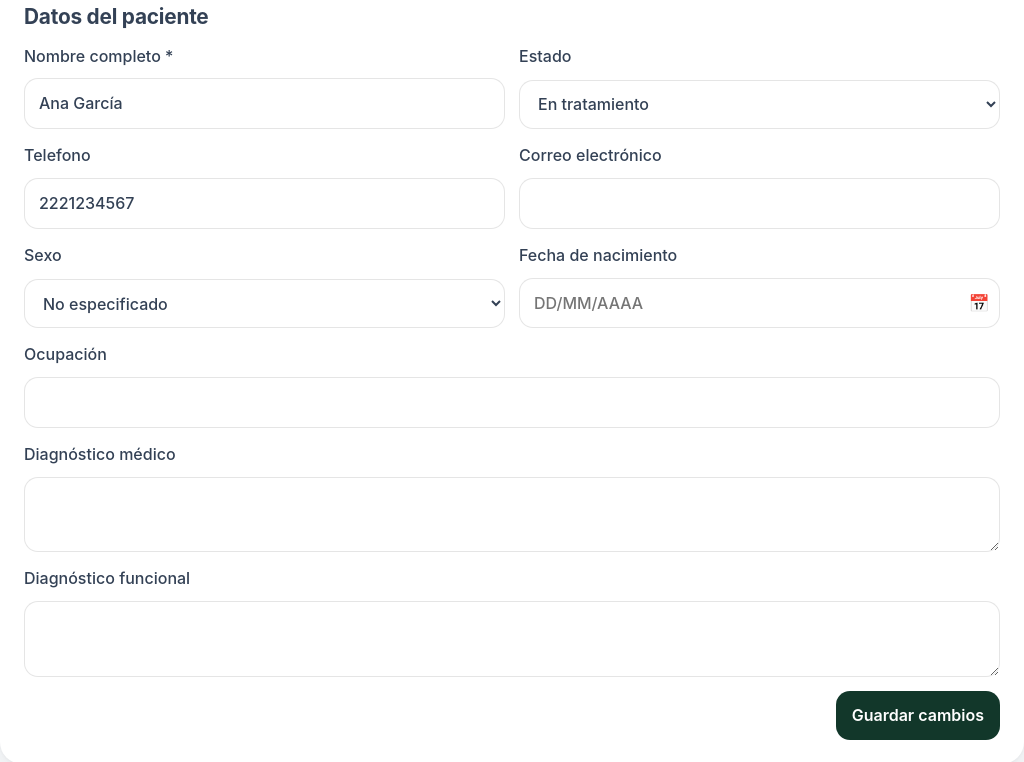
Test: PatientEditForm › muestra error si la actualización falla
(page scrolled)
Click the button "Guardar cambios": [918, 715] box [836,691,1000,740]
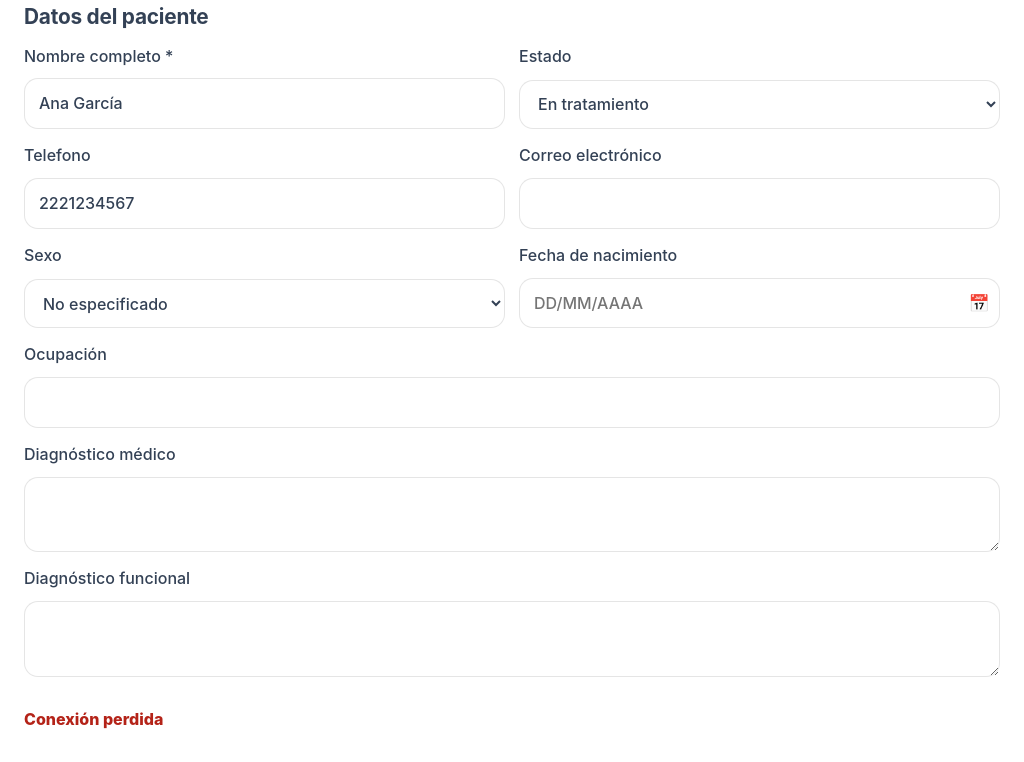
Now the text "Conexión perdida" is shown, box [24,709,163,729]
